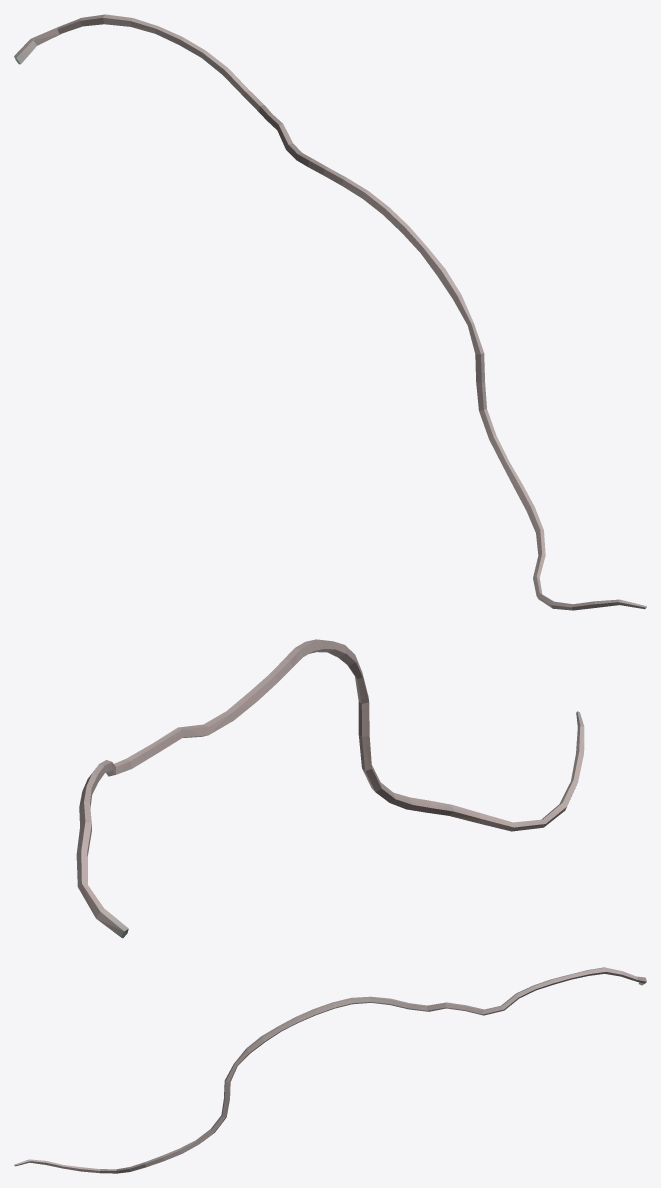
Rendered from Ureter_R_LP.glb.
The picture shows the model from 3 angles, top to bottom: view 1: azimuth 30°, elevation 25°; view 2: azimuth 150°, elevation 25°; view 3: azimuth 270°, elevation 25°; orthographic projection. The views are drawn at different scales.
Visible parts, largest first — view 1: Ureter_R_LP; view 2: Ureter_R_LP; view 3: Ureter_R_LP.
Part boxes in pixels (x1,y1,x2,y2): Ureter_R_LP: (14, 14, 646, 610); Ureter_R_LP: (76, 639, 584, 938); Ureter_R_LP: (14, 967, 646, 1173).
Size of the model in its own units: 0.00055 by 0.00111 by 0.00325.
Materials: 1 (1 with a texture image).
